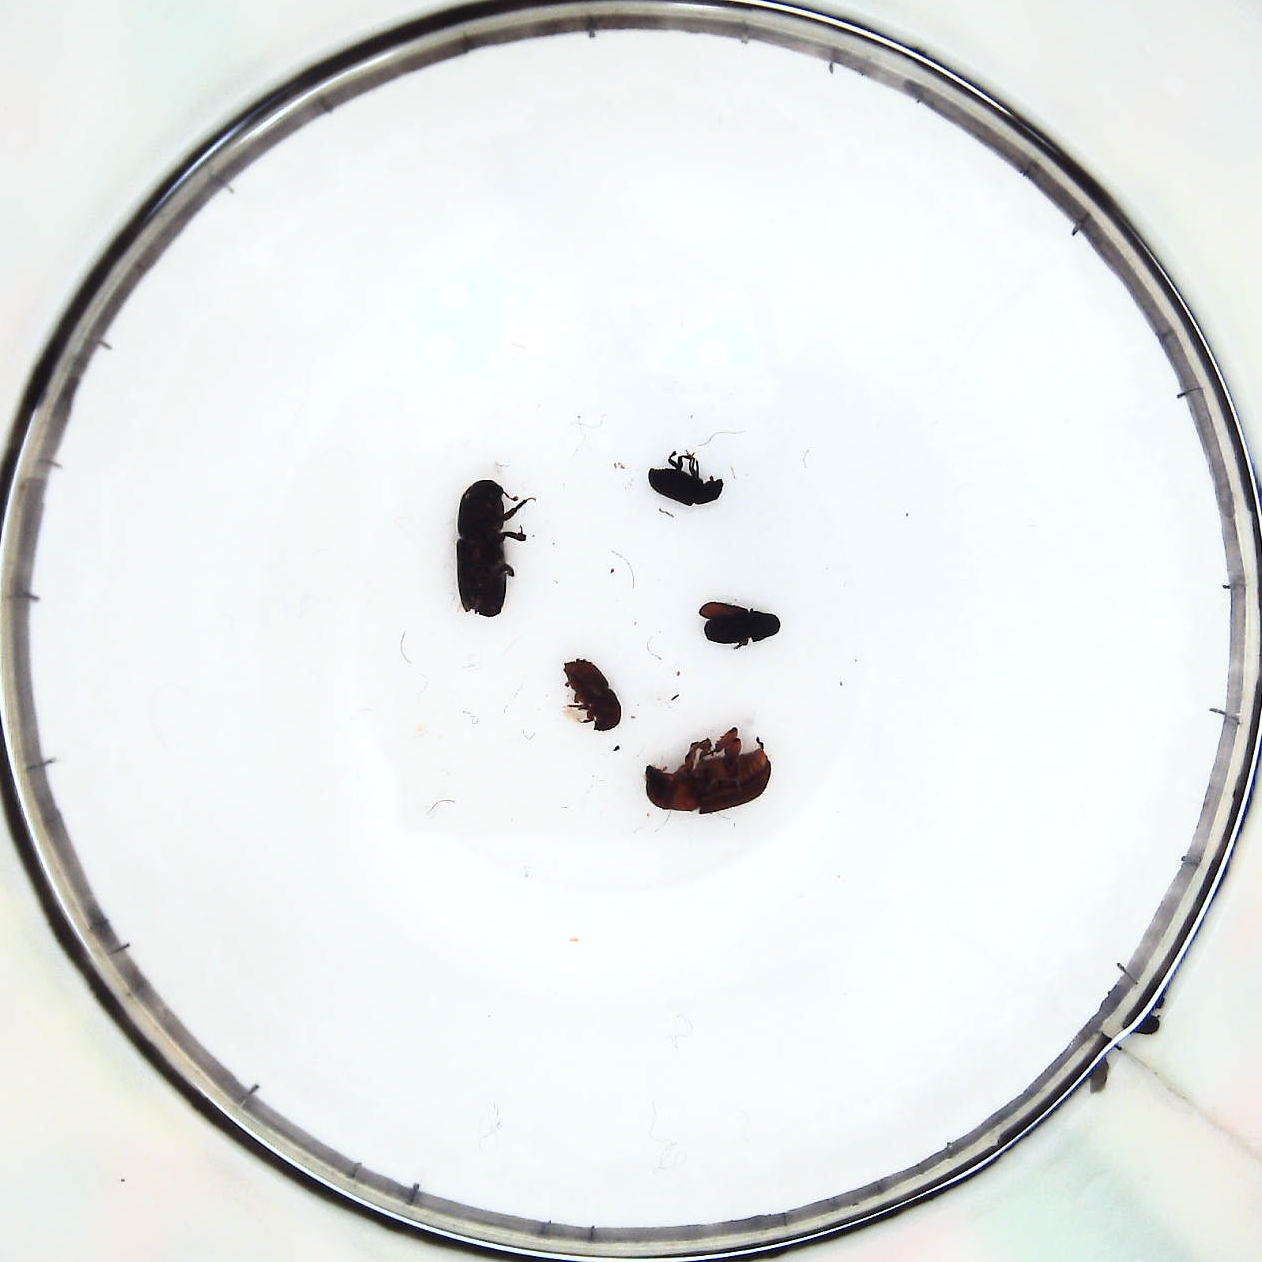Boerner: (451, 478, 519, 615)
Leconte: (643, 743, 773, 815)
Linnaeus: (555, 656, 625, 734)
armandi: (697, 599, 781, 651)
coleoptera: (645, 454, 723, 508)
